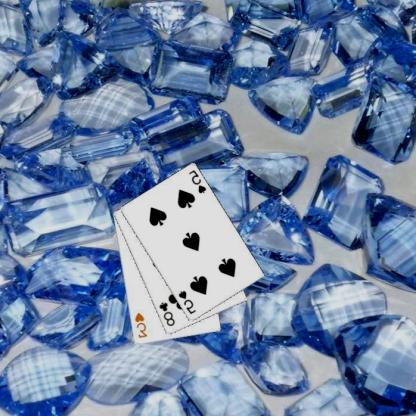3H: (134, 310, 150, 339)
5S: (178, 288, 199, 316), (188, 167, 209, 195)
8C: (158, 300, 178, 328)
